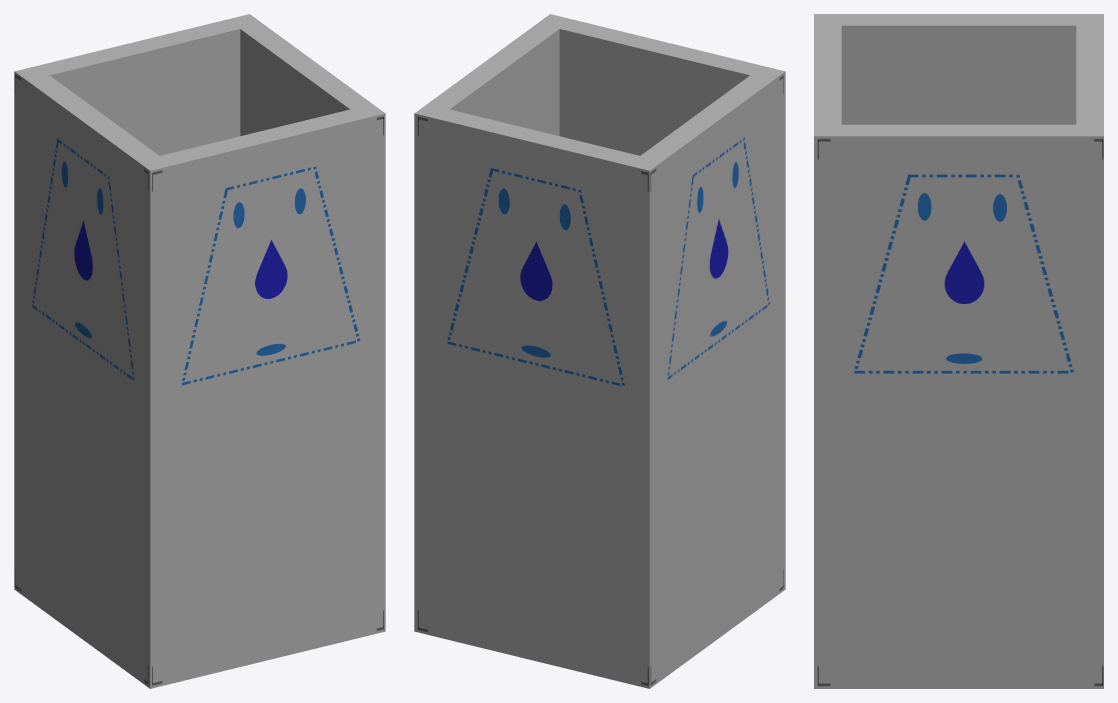
File: Trough.glb
The picture shows the model from 3 angles, left to right: view 1: azimuth 30°, elevation 25°; view 2: azimuth 150°, elevation 25°; view 3: azimuth 270°, elevation 25°; orthographic projection. The views are drawn at different scales.
Parts seen in each view (by area): view 1: Trough; view 2: Trough; view 3: Trough.
Boxes of the visible parts, x1=… form: Trough: x1=14, y1=14, x2=385, y2=688; Trough: x1=414, y1=14, x2=785, y2=688; Trough: x1=814, y1=14, x2=1103, y2=688.
Bounding box in the file's own units: 2 × 4.21 × 2.
Materials: 1 (1 with a texture image).
